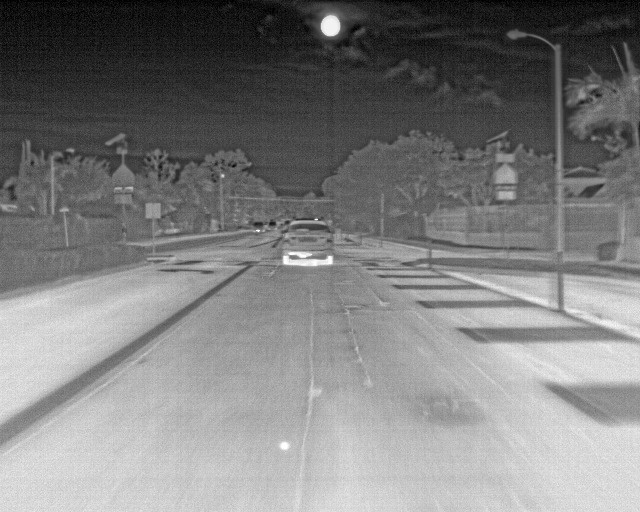vehicle: (283, 217, 334, 269)
